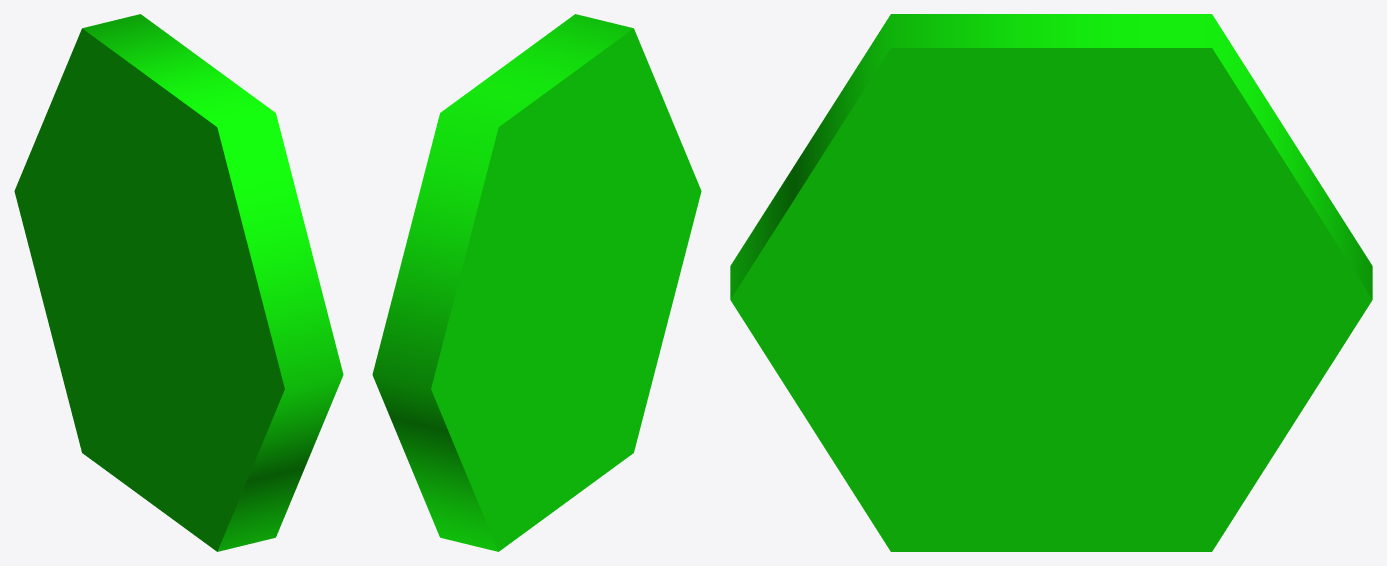
File: GreenButton.fbx
The picture shows the model from 3 angles, left to right: view 1: azimuth 30°, elevation 25°; view 2: azimuth 150°, elevation 25°; view 3: azimuth 270°, elevation 25°; orthographic projection. The views are drawn at different scales.
Parts seen in each view (by area): view 1: Cylinder001; view 2: Cylinder001; view 3: Cylinder001.
Part boxes in pixels (bbox=[...]): Cylinder001: bbox=[14, 14, 343, 551]; Cylinder001: bbox=[372, 14, 701, 551]; Cylinder001: bbox=[730, 14, 1372, 551].
Bounding box in the file's own units: 1 × 6.93 × 8.
